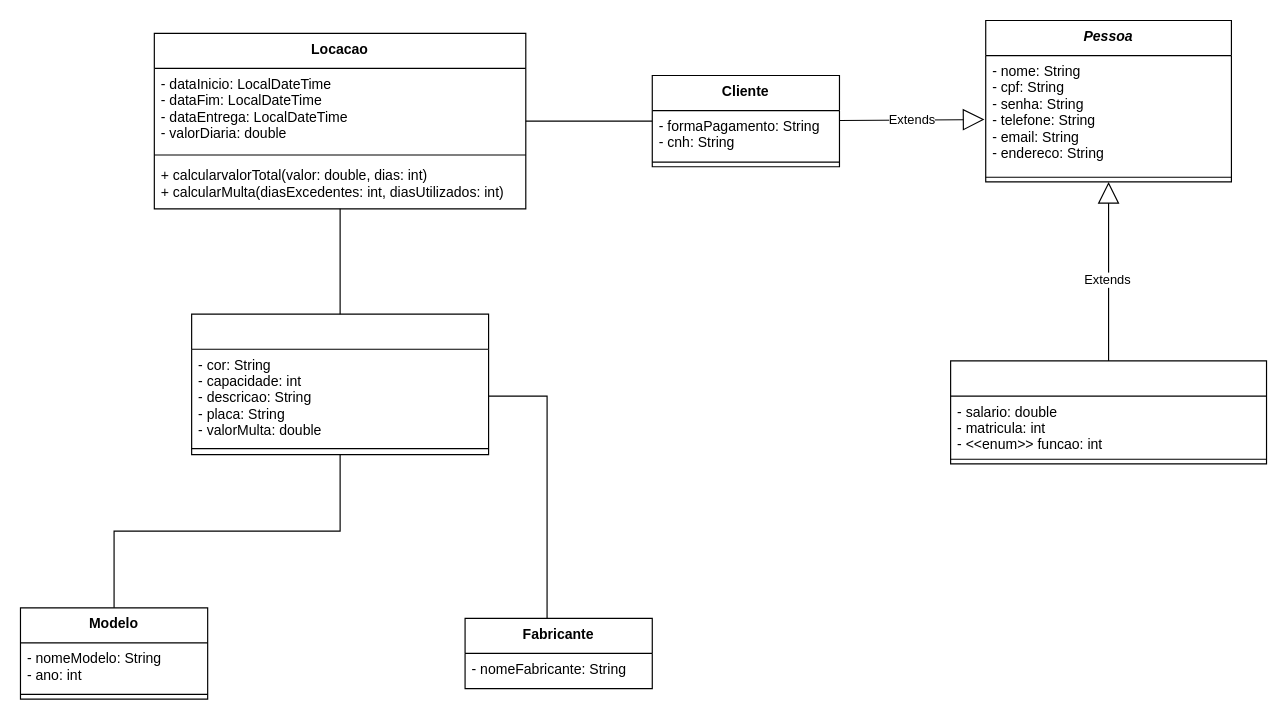
The diagram is 1287 pixels wide and 720 high, and some of its shapes have lost their labels. The box of each missing label's shape, as (x1, y1, x2, y2) in pixels:
Funcionario: (949, 360, 1267, 464)
Veiculo: (190, 313, 489, 455)
